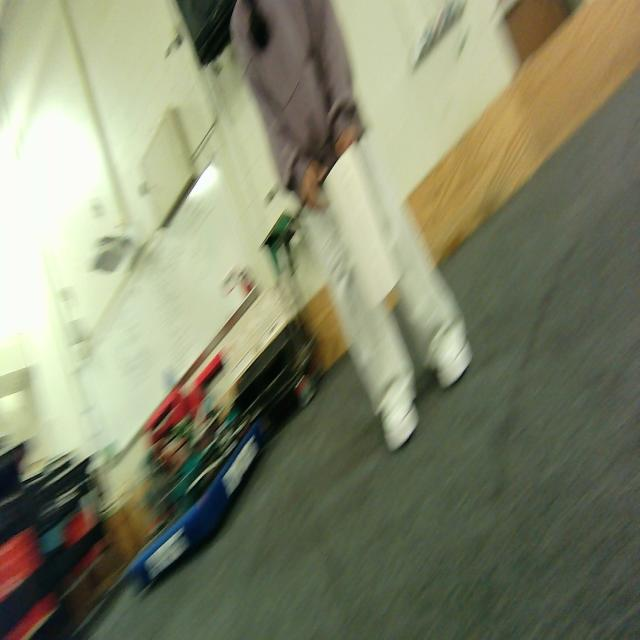coral: (318, 139, 404, 317)
